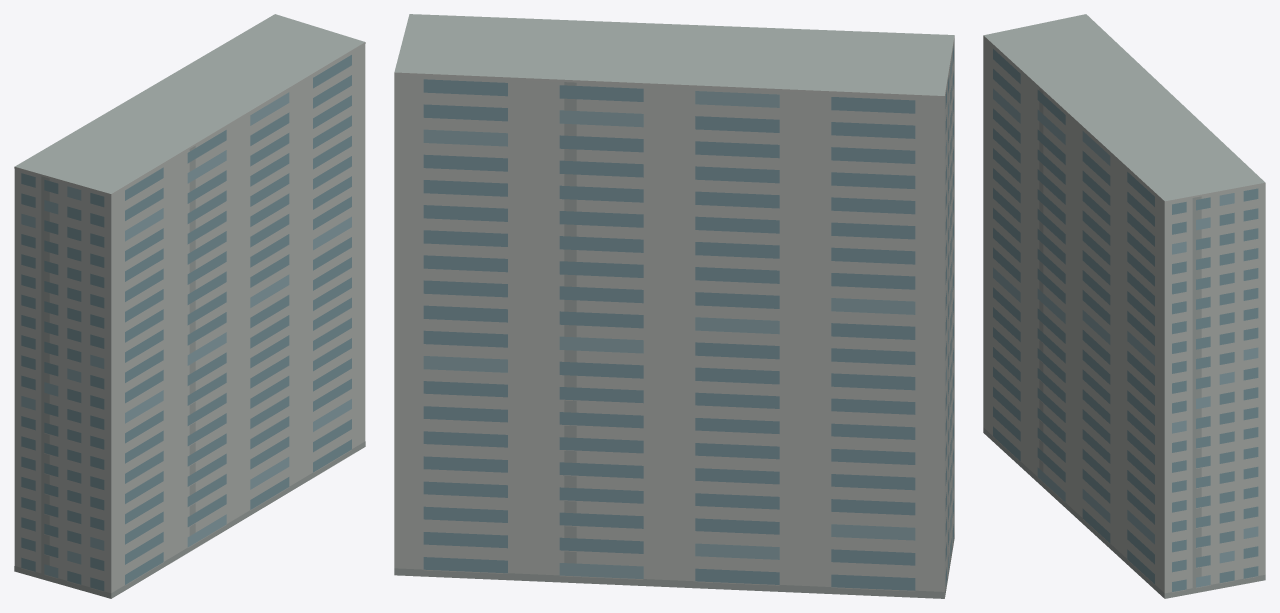
Rendered from residential-21cf90a2-81f7-47fc-ba30-da1b3ee59a0b.glb.
3 renders of one model, left to right at view 1: azimuth 30°, elevation 25°; view 2: azimuth 150°, elevation 25°; view 3: azimuth 270°, elevation 25°, orthographic. The views are drawn at different scales.
Visible parts, largest first — view 1: residential-21cf90a2-81f7-47fc-ba30-da1b3ee59a0b.tmp; view 2: residential-21cf90a2-81f7-47fc-ba30-da1b3ee59a0b.tmp; view 3: residential-21cf90a2-81f7-47fc-ba30-da1b3ee59a0b.tmp.
Boxes of the visible parts, <box> form: residential-21cf90a2-81f7-47fc-ba30-da1b3ee59a0b.tmp: <box>14,14,365,598</box>; residential-21cf90a2-81f7-47fc-ba30-da1b3ee59a0b.tmp: <box>394,14,954,598</box>; residential-21cf90a2-81f7-47fc-ba30-da1b3ee59a0b.tmp: <box>983,14,1265,598</box>.
Bounding box in the file's own units: 54.59 × 54 × 34.74.
